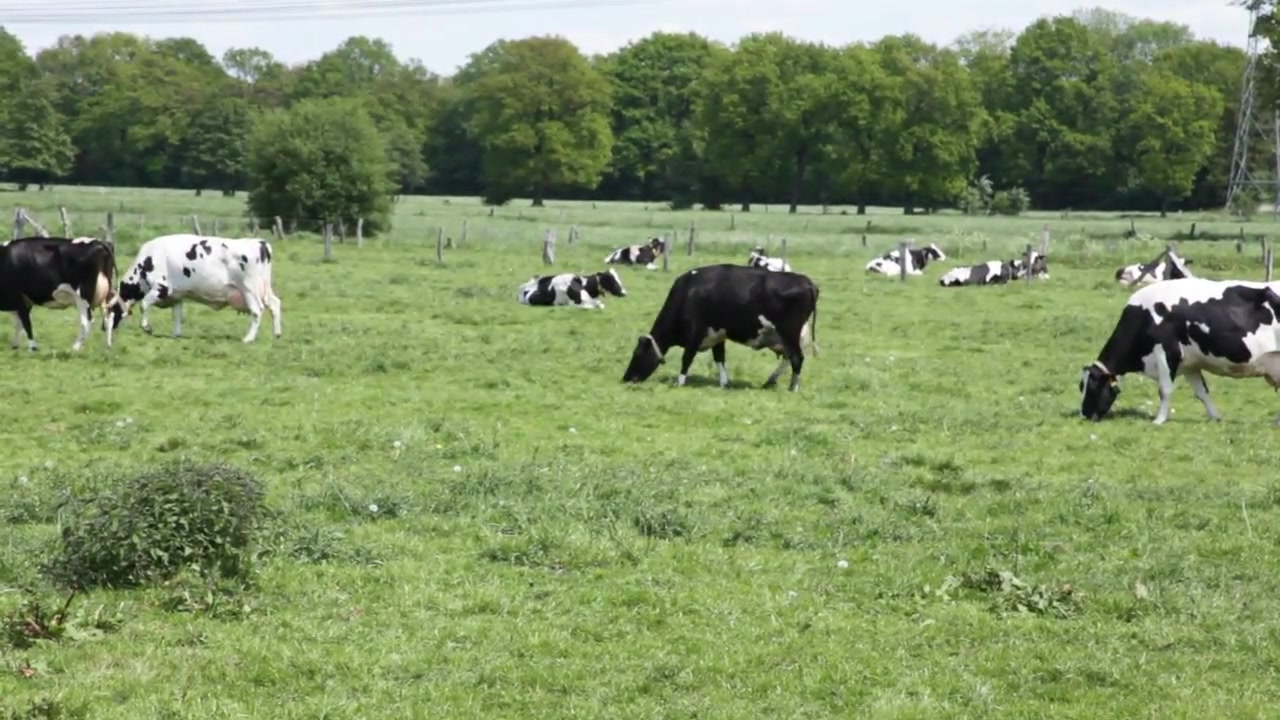cow: (618, 262, 823, 392)
